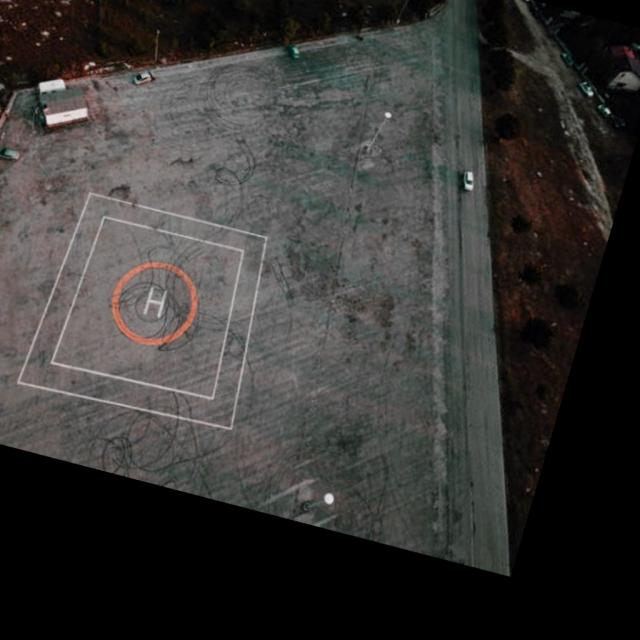helipad: (106, 257, 200, 346)
